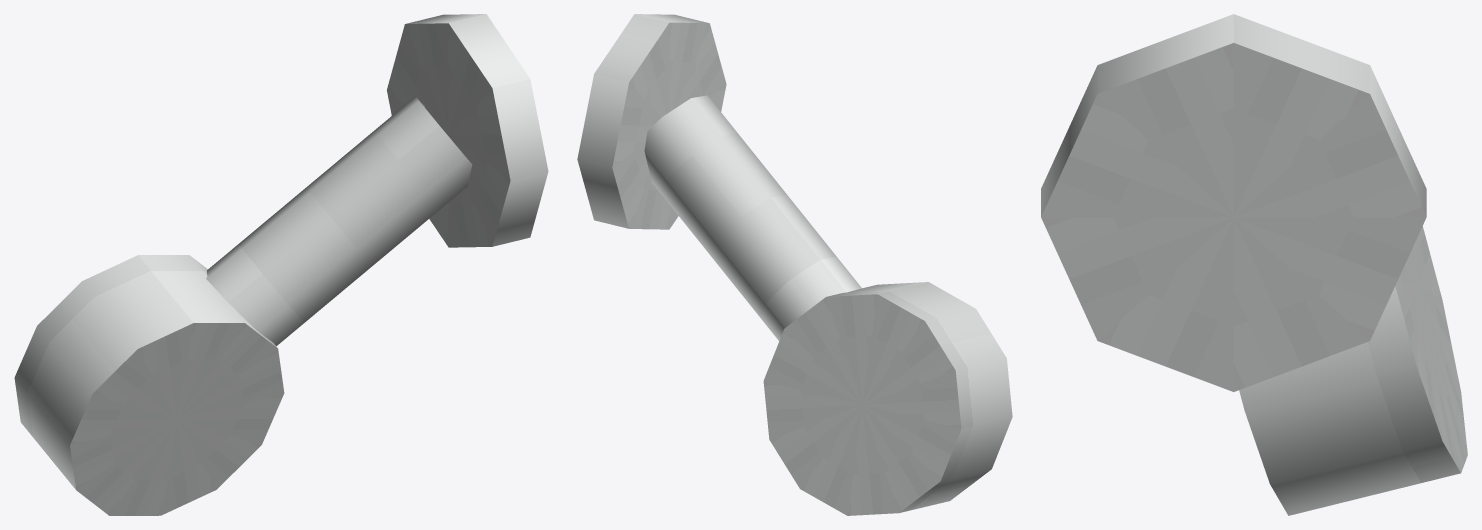
Rendered from trusssignalarm_stub_86.obj.
3 views of the same model, side by side, from view 1: azimuth 30°, elevation 25°; view 2: azimuth 150°, elevation 25°; view 3: azimuth 270°, elevation 25° (orthographic). The views are drawn at different scales.
Parts seen in each view (by area): view 1: trusssignalarm_stub_86; view 2: trusssignalarm_stub_86; view 3: trusssignalarm_stub_86.
Part boxes in pixels (<box>): trusssignalarm_stub_86: <box>14,14,548,515</box>; trusssignalarm_stub_86: <box>577,14,1012,515</box>; trusssignalarm_stub_86: <box>1041,14,1467,515</box>.
Size of the model in its own units: 0.6744 by 0.6887 by 0.3876.
